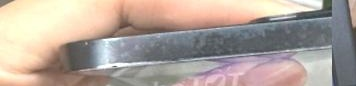scratch: (56, 6, 332, 76)
